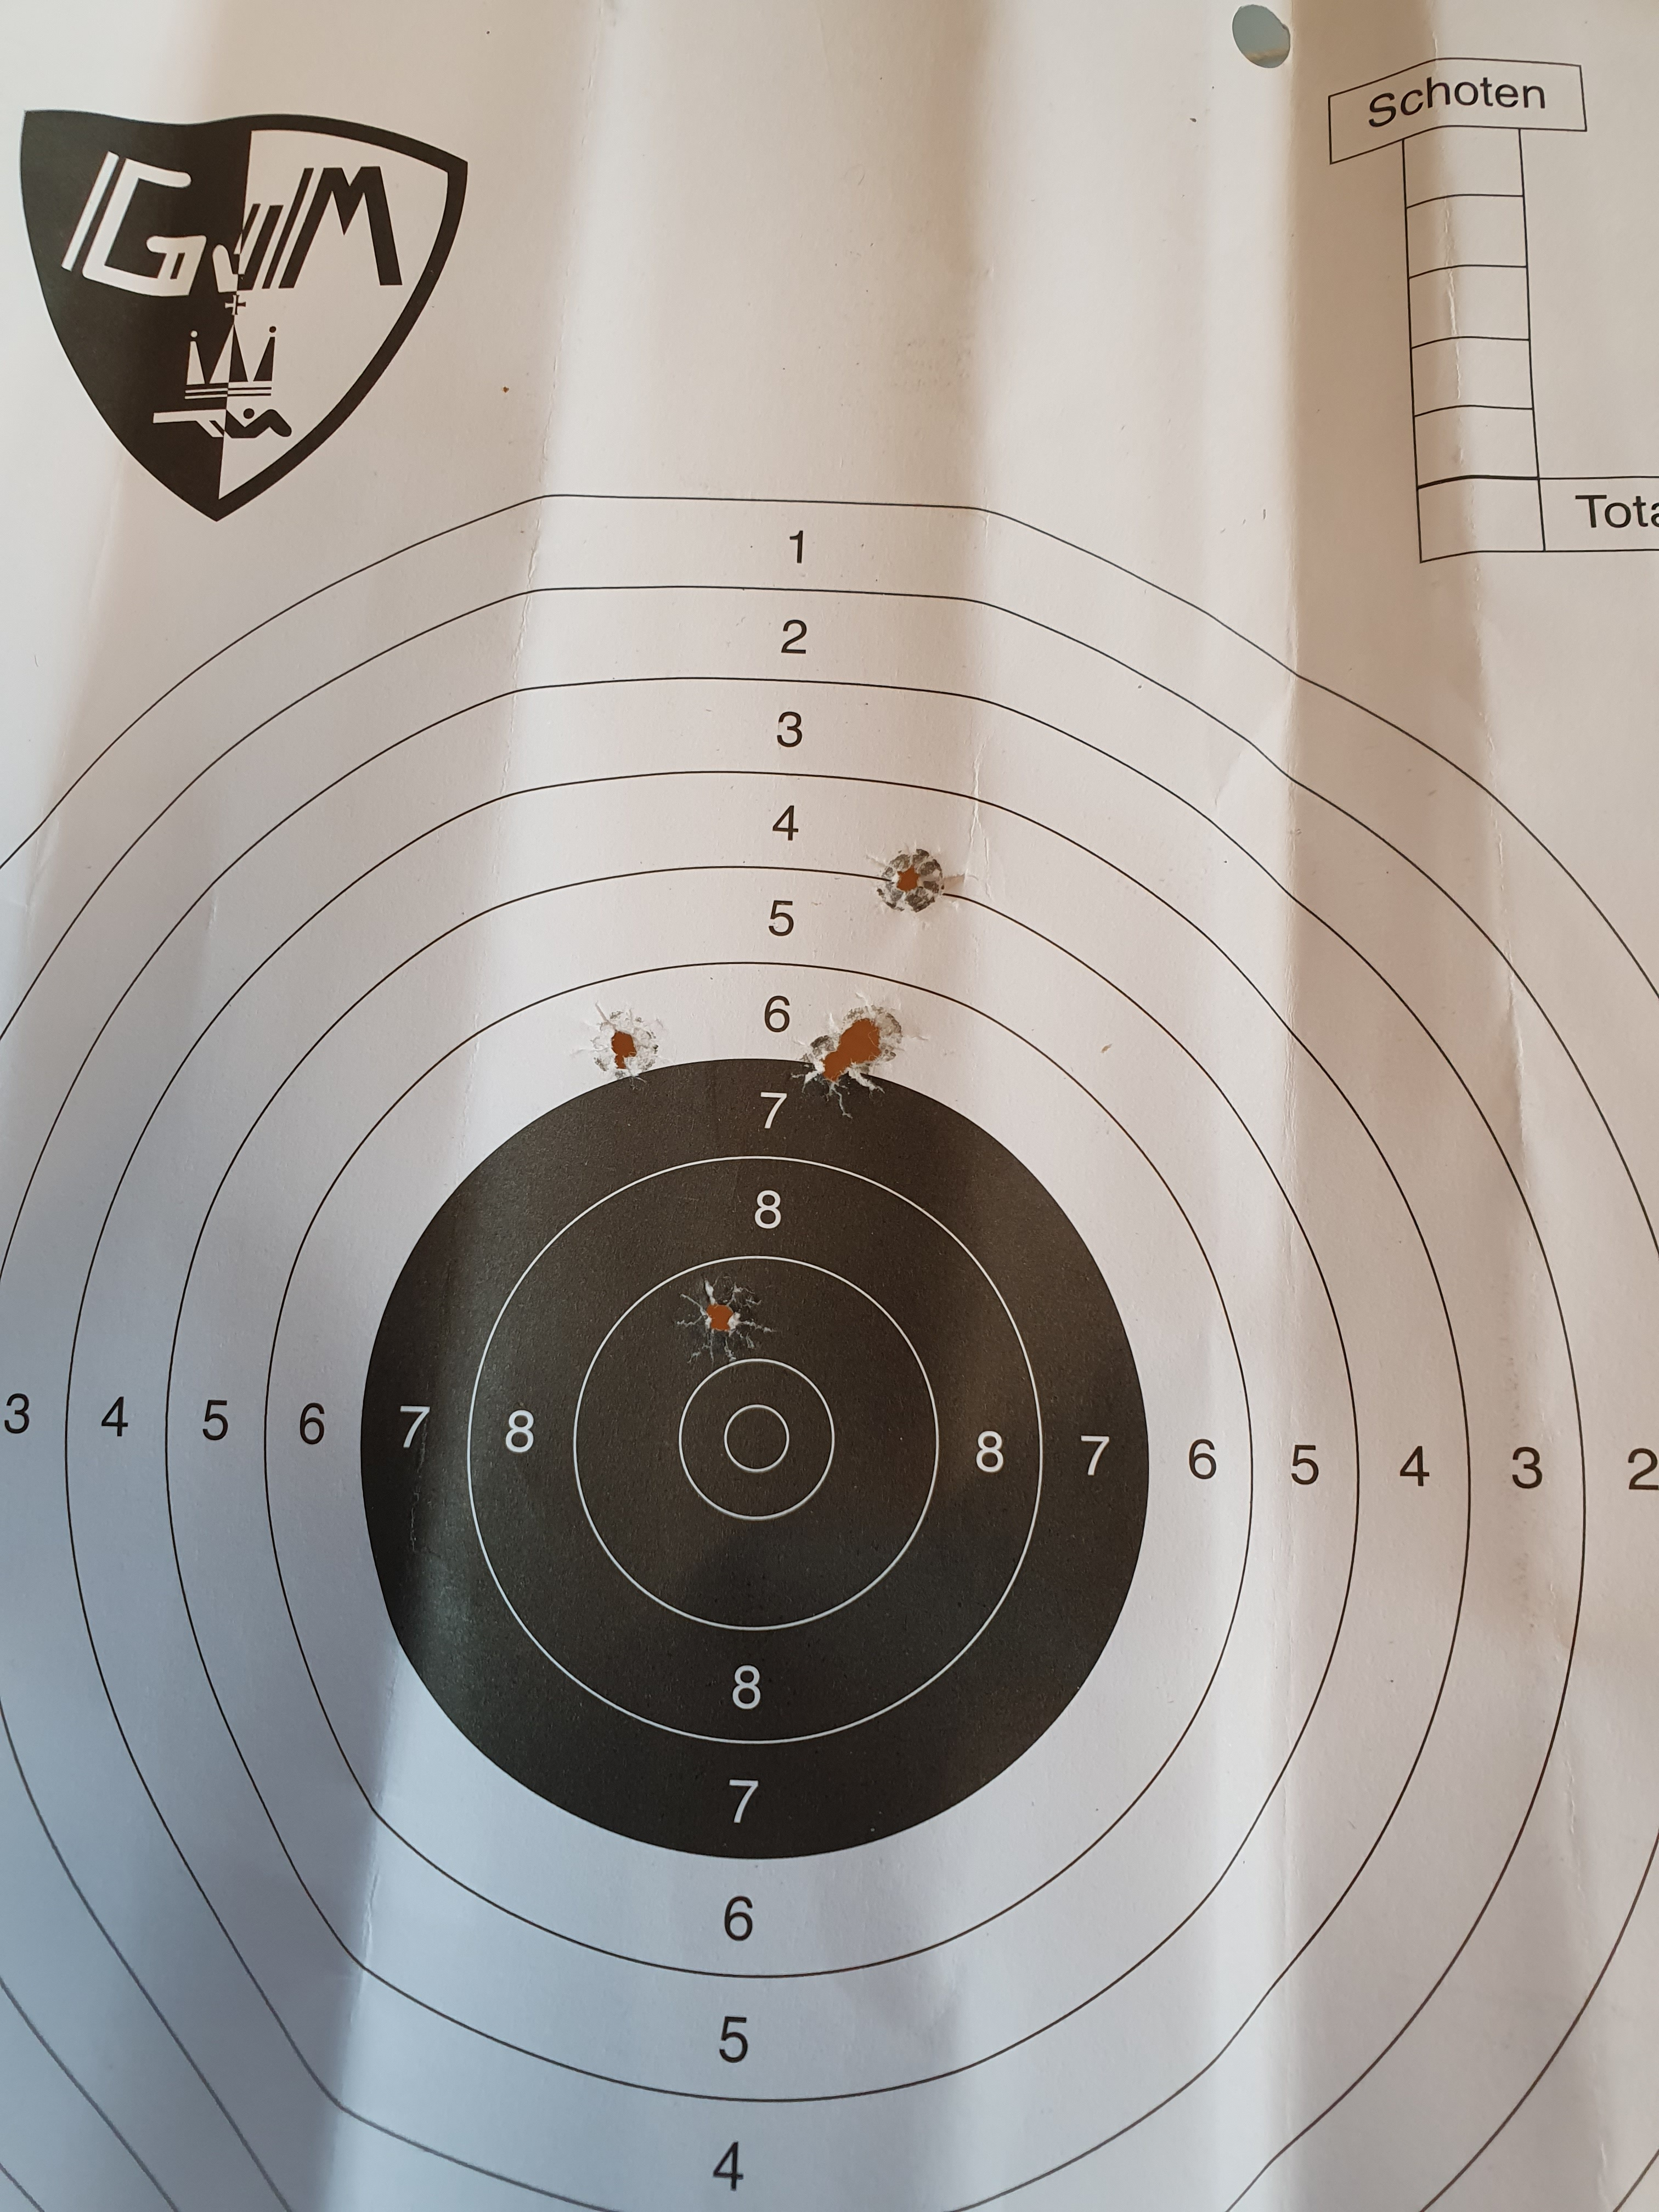center: (359, 1055, 1152, 1865)
out: (10, 491, 1659, 2212)
shot: (681, 1273, 770, 1366), (793, 1031, 885, 1108), (826, 991, 911, 1073), (587, 1001, 666, 1085), (875, 843, 951, 916)
target: (681, 1353, 831, 1519)
